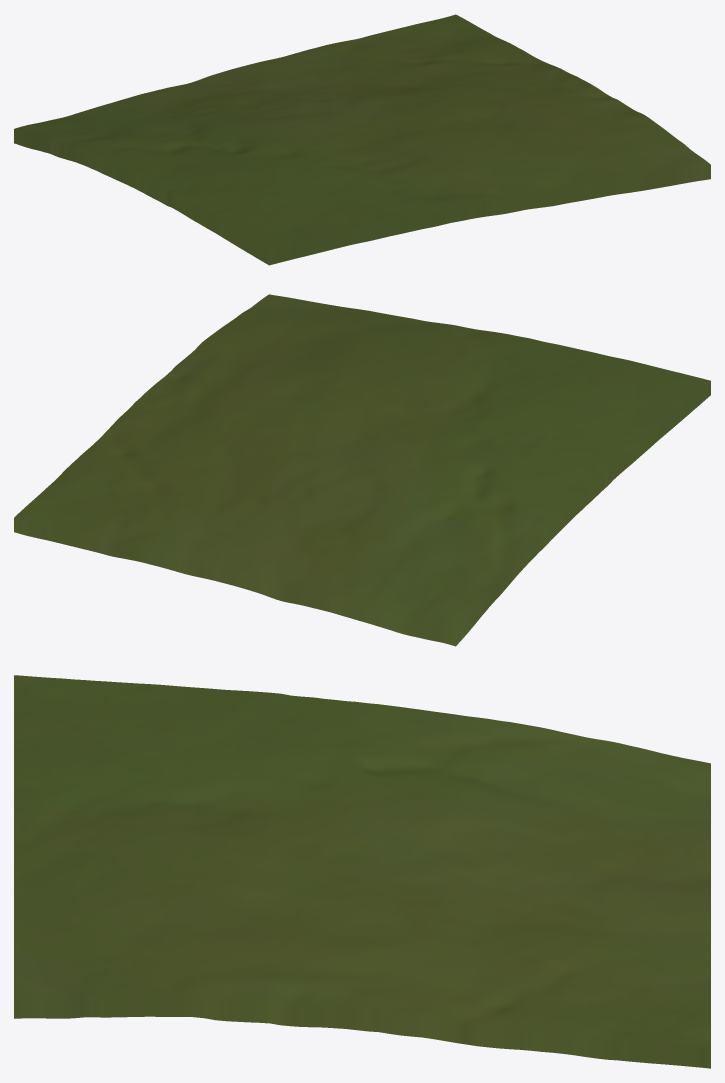
File: terrain_6_-10.glb
3 views of the same model, one above another, from view 1: azimuth 30°, elevation 25°; view 2: azimuth 150°, elevation 25°; view 3: azimuth 270°, elevation 25° (orthographic). The views are drawn at different scales.
Parts seen in each view (by area): view 1: terrain_6_-10; view 2: terrain_6_-10; view 3: terrain_6_-10.
Part boxes in pixels (x1,y1,x2,y2): terrain_6_-10: [14, 14, 710, 265]; terrain_6_-10: [14, 294, 710, 646]; terrain_6_-10: [14, 675, 710, 1068].
Size of the model in its own units: 256 by 44.35 by 256.
